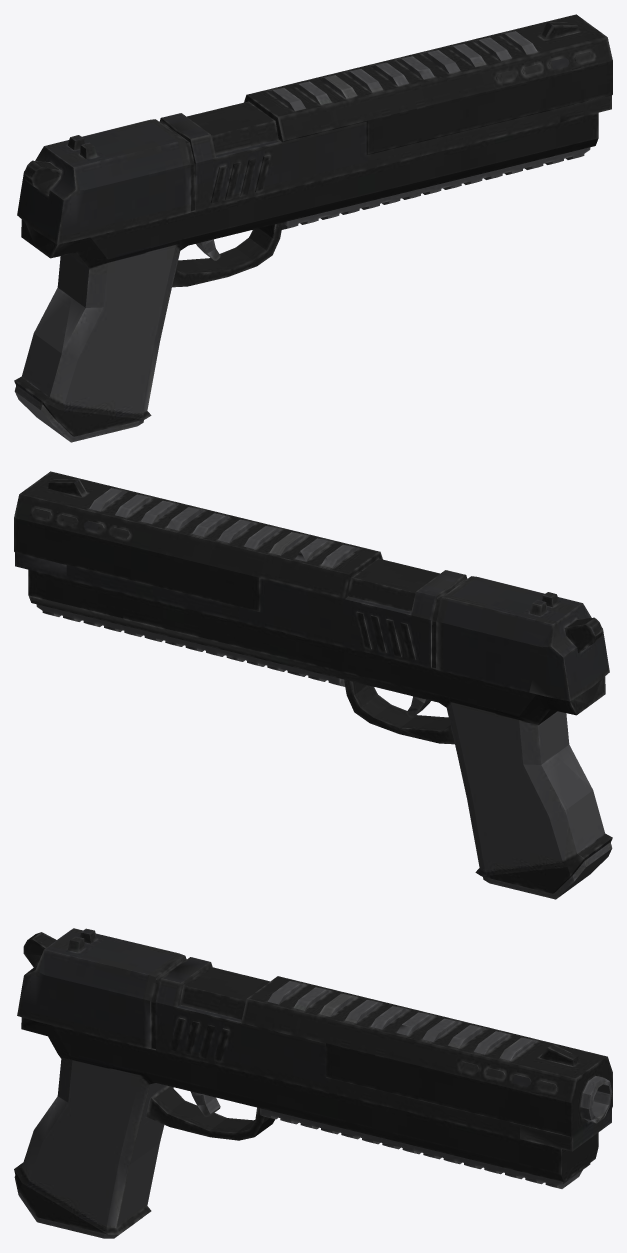
The model's file is deagle.glb.
The picture shows the model from 3 angles, top to bottom: view 1: azimuth 30°, elevation 25°; view 2: azimuth 150°, elevation 25°; view 3: azimuth 330°, elevation 25°; orthographic projection.
Visible parts, largest first — view 1: Pistol_6; view 2: Pistol_6; view 3: Pistol_6.
Part boxes in pixels (bbox=[...]): Pistol_6: bbox=[14, 14, 612, 442]; Pistol_6: bbox=[14, 471, 612, 899]; Pistol_6: bbox=[14, 928, 612, 1238].
Size of the model in its own units: 2.45 by 1.16 by 0.3088.
Materials: 1 (1 with a texture image).
